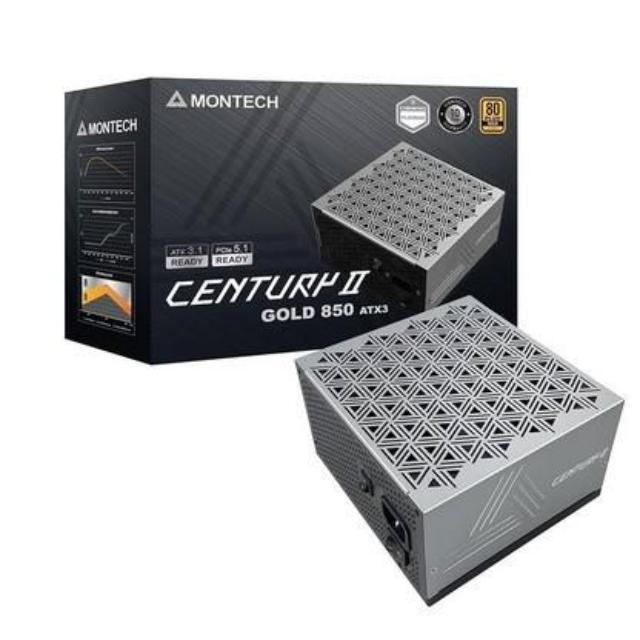PSU: (275, 287, 640, 621)
